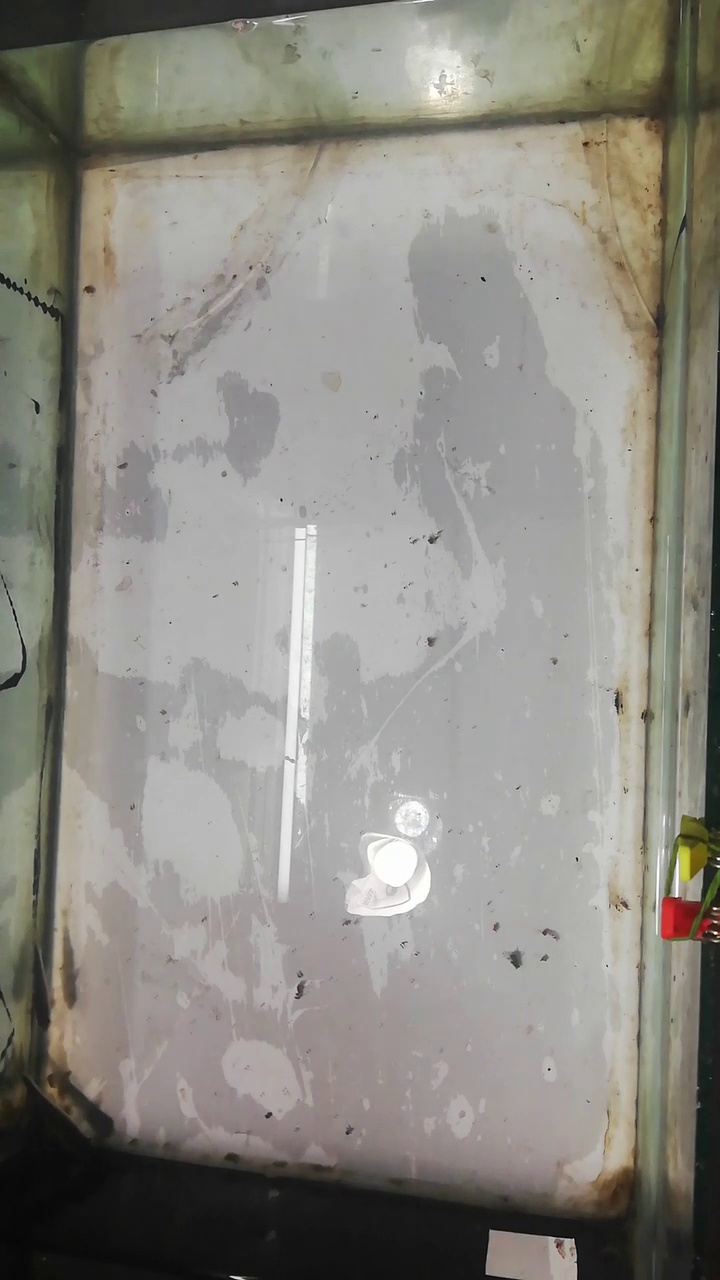fish1: (46, 1065, 119, 1141)
fish2: (54, 910, 84, 1009), (26, 938, 54, 1027)
